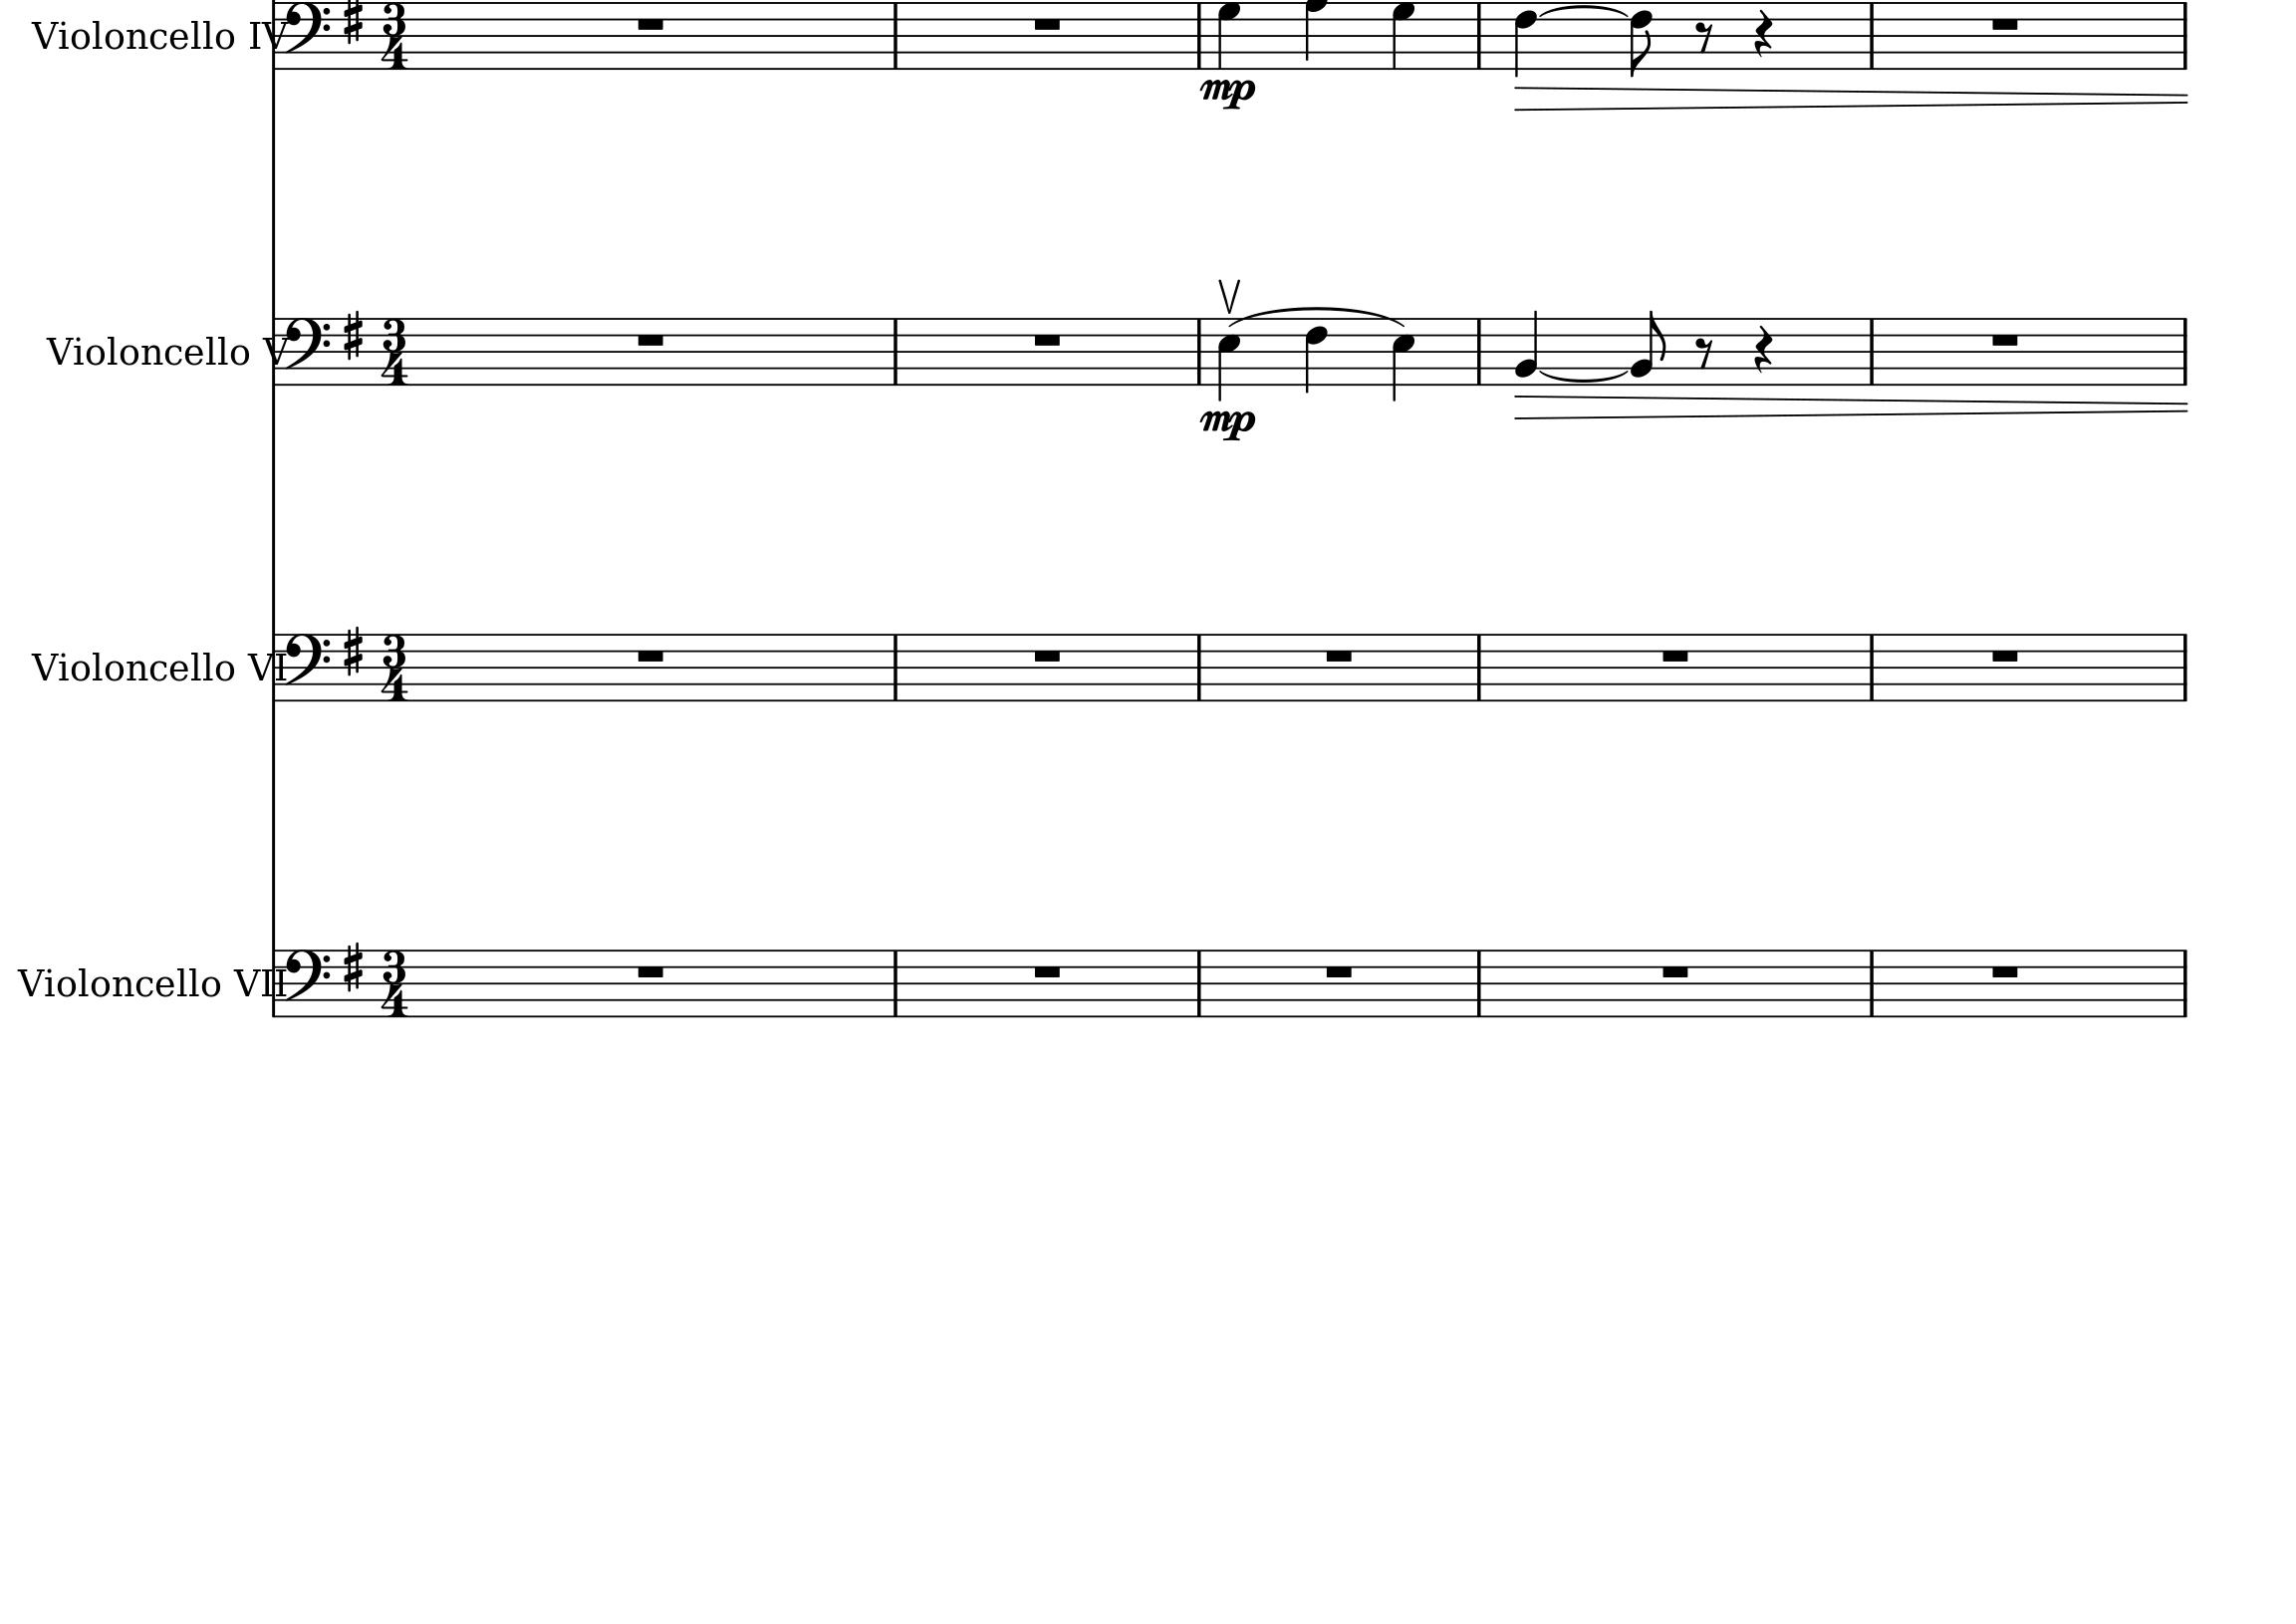3: (379, 316, 409, 352), (379, 631, 408, 666), (379, 947, 408, 982), (379, 2, 408, 35)
4: (376, 33, 413, 69), (376, 350, 413, 385), (378, 666, 411, 701), (378, 981, 411, 1016)
4_2: (1514, 308, 1541, 388)
4_5: (1390, 315, 1416, 404), (1216, 316, 1242, 401)
4_6: (1513, 2, 1539, 79), (1303, 316, 1328, 395)
4_7: (1390, 2, 1418, 70), (1216, 2, 1244, 69)
8_2: (1628, 308, 1667, 385)
8_6: (1628, 2, 1655, 77)
Fclef: (281, 315, 332, 387), (281, 2, 332, 70), (285, 631, 332, 703), (285, 947, 332, 1018)
Rests1: (1987, 12, 2024, 33), (1987, 645, 2024, 666), (1029, 960, 1066, 981), (1987, 960, 2024, 981), (632, 12, 668, 33), (632, 329, 668, 350), (632, 645, 668, 666), (1658, 645, 1693, 666), (632, 960, 668, 981), (1321, 960, 1356, 981), (1658, 960, 1693, 981), (1987, 329, 2024, 348), (1029, 645, 1066, 664), (1029, 14, 1065, 33), (1321, 645, 1356, 664), (1029, 330, 1066, 348)
Rests4: (1751, 323, 1774, 374), (1751, 9, 1774, 58)
Rests8: (1692, 19, 1715, 54), (1692, 334, 1715, 369)
Sharp: (341, 308, 365, 362), (341, 624, 365, 678), (341, 939, 365, 993), (341, 2, 365, 46)
Single_barline: (265, 2, 285, 70), (265, 318, 285, 387), (2175, 633, 2194, 701), (2175, 949, 2194, 1016), (1470, 2, 1488, 70), (267, 949, 285, 1018), (1191, 2, 1209, 69), (2175, 2, 2192, 69), (267, 634, 285, 701), (1862, 634, 1880, 701), (1862, 951, 1880, 1016), (2177, 318, 2192, 385), (887, 318, 903, 385), (887, 634, 903, 701), (1191, 634, 1207, 701), (1472, 634, 1488, 701), (1472, 949, 1488, 1016), (887, 4, 903, 69), (1472, 318, 1488, 383), (1191, 318, 1207, 383), (887, 951, 903, 1016), (1191, 951, 1207, 1016), (1864, 318, 1878, 385), (1864, 4, 1878, 69)
Slur: (1537, 369, 1630, 381)
TimeSig: (379, 631, 409, 701), (379, 2, 409, 70), (379, 315, 408, 385), (379, 947, 408, 1018)
Tremolo_bar: (1214, 272, 1244, 315)
mp: (1196, 406, 1258, 445), (1198, 76, 1256, 111)
